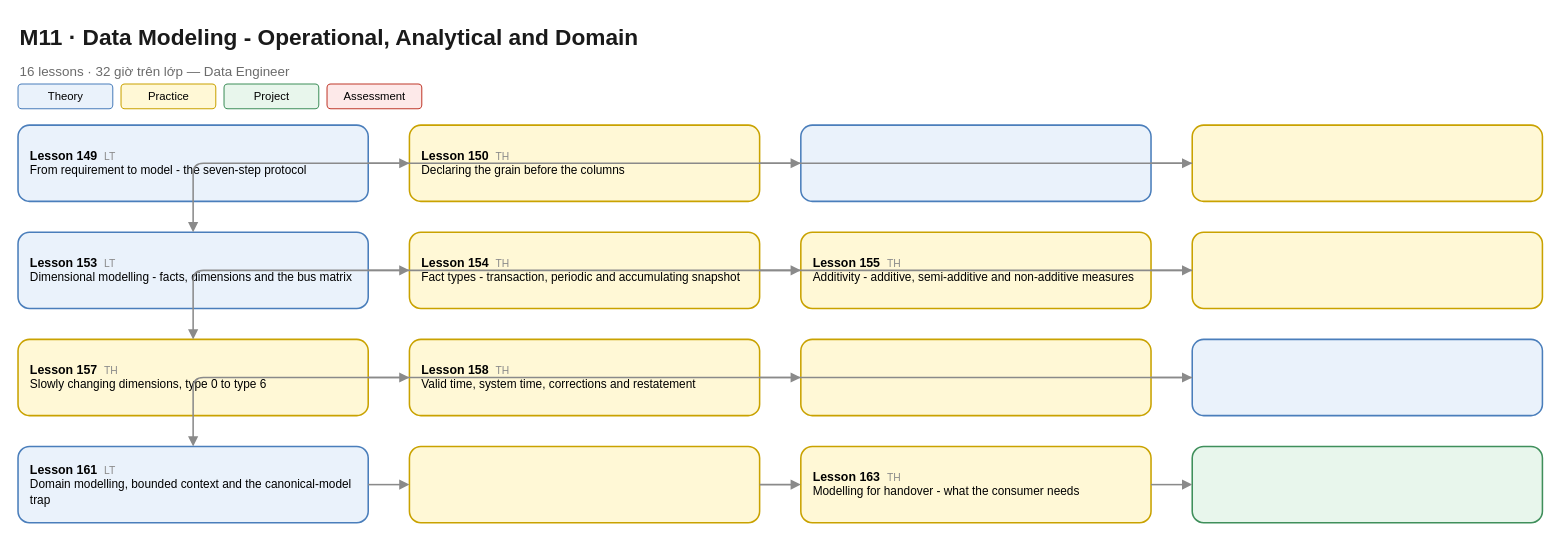
Some shapes in this 1561 by 541 pixel diagram are drawn without their labels. Here are the shapes that lost their labels. From the top down, the centre of each, then its label:
the point at 975,163: Lesson 151 LT Conceptual, logical and physical models
the point at 1367,163: Lesson 152 TH Keys - natural, surrogate and identity over time
the point at 1367,270: Lesson 156 TH Dimension patterns - role-playing, junk, degenerate and bridge
the point at 975,377: Lesson 159 TH Star, snowflake and the one-big-table trade-off
the point at 1367,377: Lesson 160 LT Data Vault at a level sufficient to recognise it
the point at 584,484: Lesson 162 TH Late arriving data, early arriving facts and the unknown member
the point at 1367,484: Lesson 164 DA Modelling project - four models, one decision matrix
